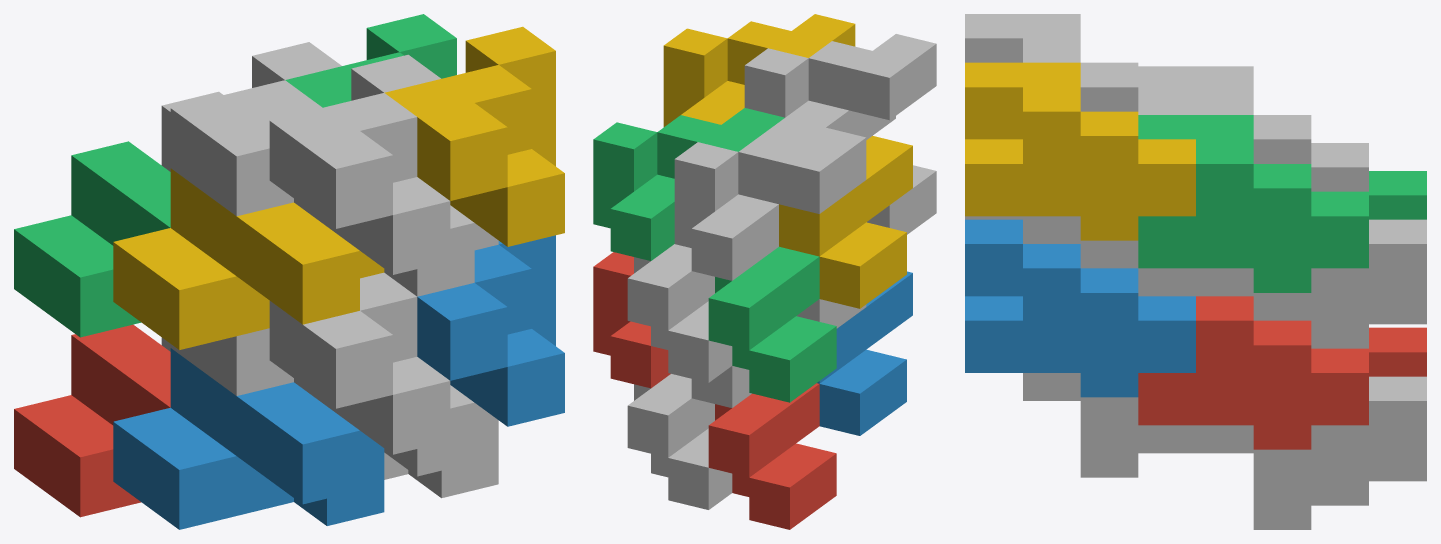
Rendered from tiling.obj.
The picture shows the model from 3 angles, left to right: view 1: azimuth 30°, elevation 25°; view 2: azimuth 150°, elevation 25°; view 3: azimuth 270°, elevation 25°; orthographic projection. The views are drawn at different scales.
Parts seen in each view (by area): view 1: copy_1_domain_2, copy_1_domain_4, copy_2_domain_8, copy_2_domain_4, copy_2_domain_6, copy_2_domain_2, copy_1_domain_3, copy_1_domain_1, copy_2_domain_3, copy_1_domain_6, copy_2_domain_7, copy_2_domain_1 (+1 smaller); view 2: copy_2_domain_3, copy_2_domain_4, copy_1_domain_3, copy_2_domain_7, copy_1_domain_1, copy_1_domain_4, copy_2_domain_8, copy_1_domain_2, copy_1_domain_7, copy_1_domain_5, copy_2_domain_5, copy_2_domain_1 (+1 smaller); view 3: copy_2_domain_8, copy_2_domain_6, copy_2_domain_7, copy_2_domain_5, copy_1_domain_5, copy_1_domain_7, copy_2_domain_4, copy_2_domain_3, copy_1_domain_6, copy_1_domain_8, copy_1_domain_1, copy_1_domain_3.
Boxes of the visible parts, x1=… form: copy_1_domain_2: x1=113, y1=348, x2=384, y2=529; copy_1_domain_4: x1=113, y1=168, x2=384, y2=349; copy_2_domain_8: x1=384, y1=26, x2=564, y2=246; copy_2_domain_4: x1=261, y1=54, x2=450, y2=274; copy_2_domain_6: x1=417, y1=235, x2=564, y2=426; copy_2_domain_2: x1=269, y1=272, x2=450, y2=454; copy_1_domain_3: x1=14, y1=141, x2=170, y2=337; copy_1_domain_1: x1=14, y1=324, x2=170, y2=517; copy_2_domain_3: x1=161, y1=42, x2=341, y2=216; copy_1_domain_6: x1=384, y1=385, x2=498, y2=498; copy_2_domain_7: x1=285, y1=14, x2=456, y2=107; copy_2_domain_1: x1=161, y1=328, x2=293, y2=395; copy_2_domain_3: x1=674, y1=127, x2=866, y2=280; copy_2_domain_4: x1=744, y1=34, x2=936, y2=144; copy_1_domain_3: x1=708, y1=246, x2=836, y2=402; copy_2_domain_7: x1=593, y1=108, x2=784, y2=260; copy_1_domain_1: x1=708, y1=383, x2=836, y2=529; copy_1_domain_4: x1=779, y1=136, x2=912, y2=308; copy_2_domain_8: x1=663, y1=14, x2=855, y2=126; copy_1_domain_2: x1=817, y1=271, x2=912, y2=435; copy_1_domain_7: x1=627, y1=244, x2=732, y2=382; copy_1_domain_5: x1=627, y1=374, x2=732, y2=509; copy_2_domain_5: x1=593, y1=252, x2=670, y2=388; copy_2_domain_1: x1=691, y1=299, x2=866, y2=407; copy_2_domain_8: x1=965, y1=62, x2=1195, y2=240; copy_2_domain_6: x1=965, y1=219, x2=1195, y2=397; copy_2_domain_7: x1=1138, y1=115, x2=1368, y2=292; copy_2_domain_5: x1=1138, y1=296, x2=1368, y2=449; copy_1_domain_5: x1=1196, y1=376, x2=1426, y2=529; copy_1_domain_7: x1=1196, y1=219, x2=1426, y2=348; copy_2_domain_4: x1=965, y1=14, x2=1195, y2=114; copy_2_domain_3: x1=1138, y1=66, x2=1368, y2=191; copy_1_domain_6: x1=1023, y1=373, x2=1195, y2=477; copy_1_domain_8: x1=1023, y1=216, x2=1195, y2=296; copy_1_domain_1: x1=1369, y1=327, x2=1426, y2=376; copy_1_domain_3: x1=1369, y1=171, x2=1426, y2=219.
Bounding box in the file's own units: 6 × 8 × 8.
